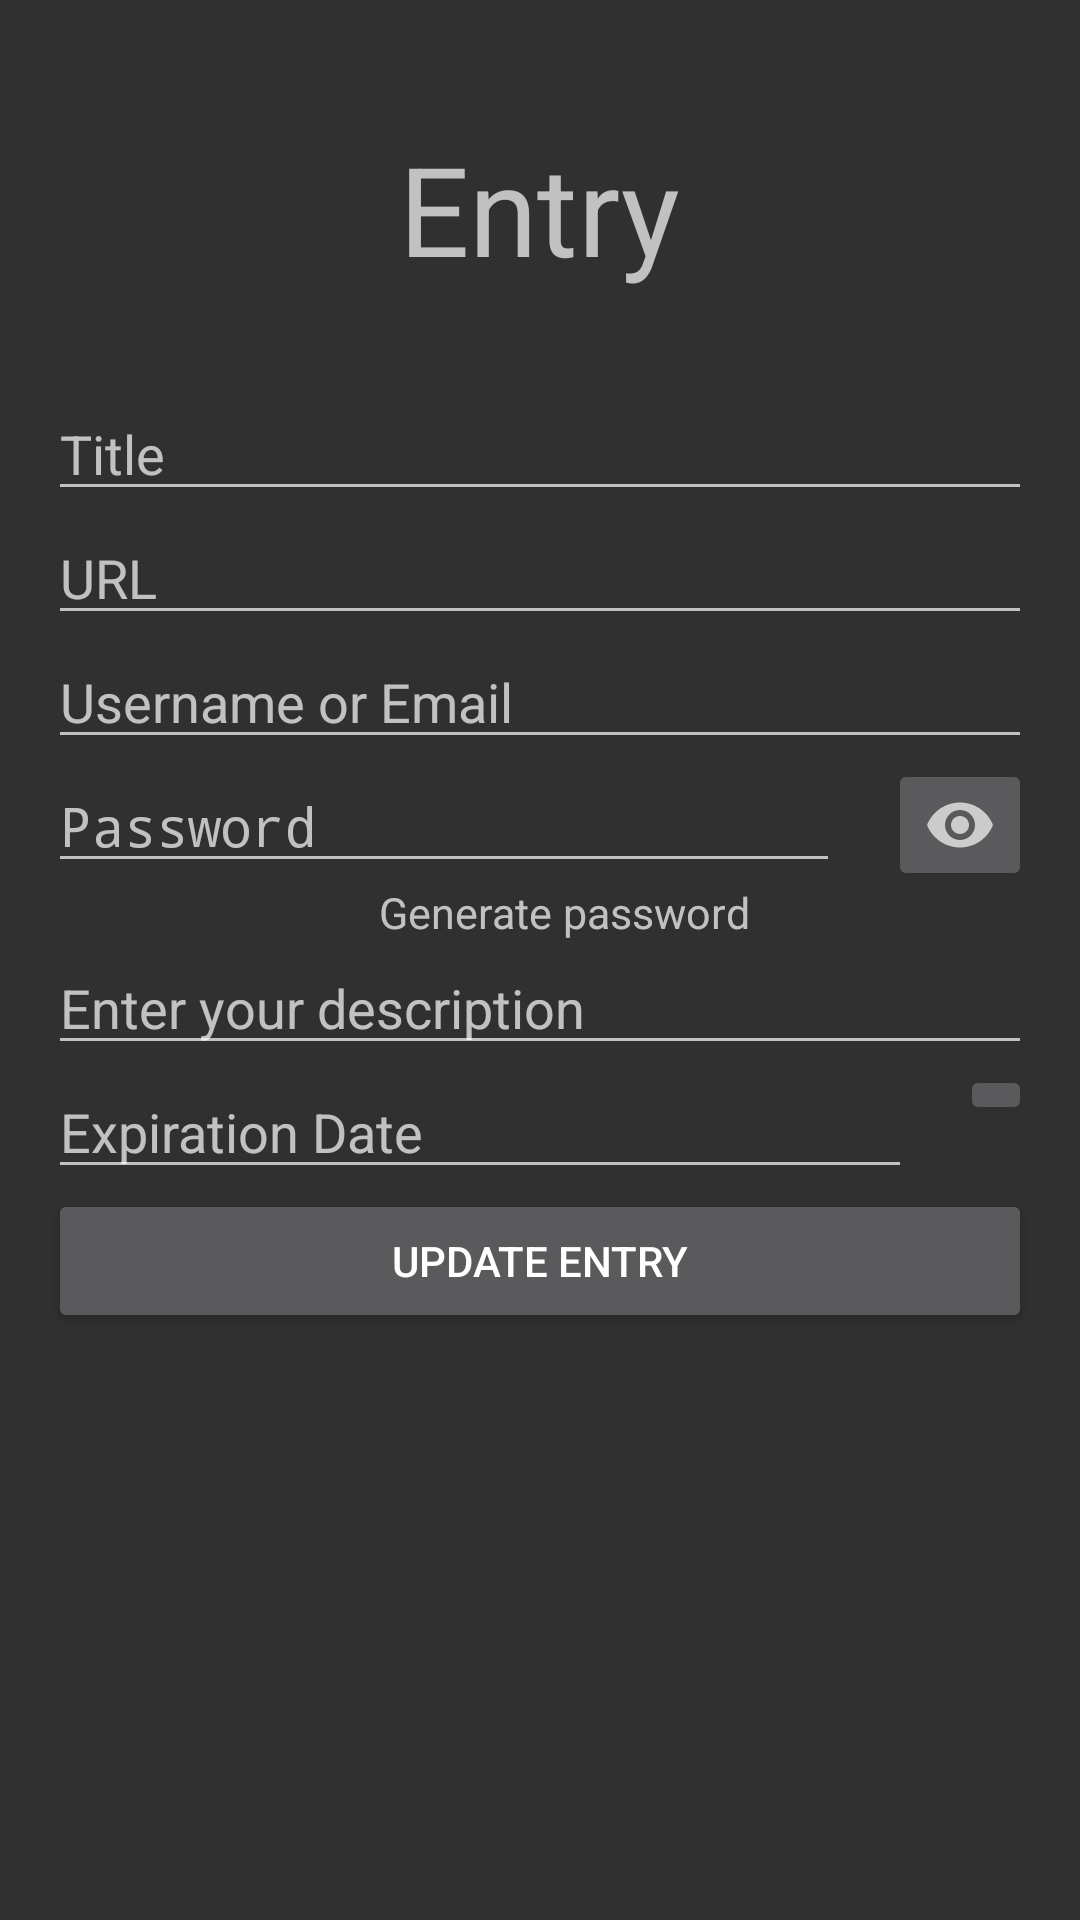

Icons on this 1080x1920 Android screen, each with the point to tap as (x=x, y=y):
showpassbutton: (x=960, y=825)
